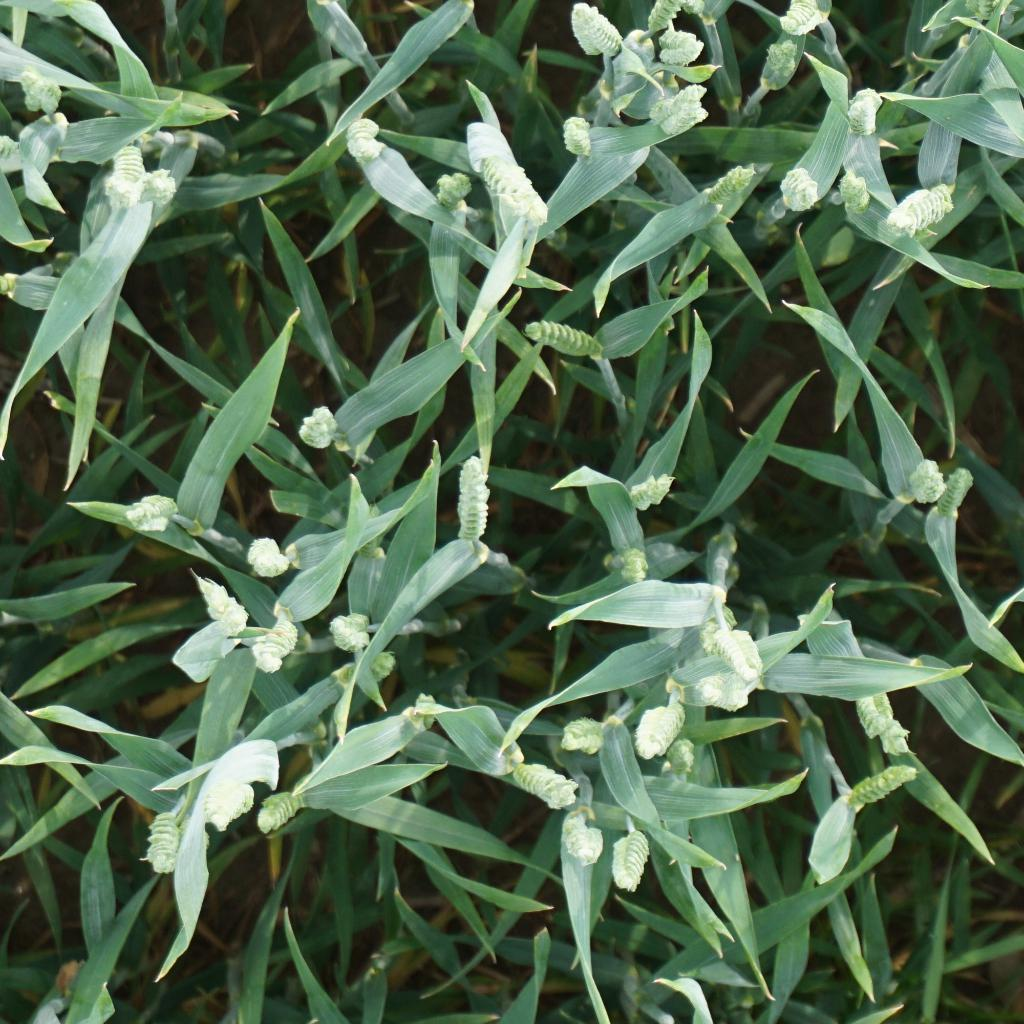0-0: (480, 147, 548, 224), (702, 605, 764, 682), (885, 179, 958, 237), (854, 685, 911, 759), (508, 756, 584, 809), (847, 759, 921, 811), (197, 766, 254, 833), (455, 452, 492, 547), (633, 696, 689, 758), (520, 320, 608, 358), (609, 825, 657, 893), (196, 571, 240, 644), (567, 1, 621, 58), (252, 608, 300, 672), (651, 81, 706, 135), (146, 804, 187, 875), (106, 143, 148, 212), (691, 672, 759, 712), (258, 785, 311, 834), (558, 811, 605, 866), (556, 712, 614, 756), (15, 65, 65, 115), (904, 453, 951, 505), (122, 493, 180, 534), (651, 27, 709, 67), (931, 466, 976, 516), (708, 160, 758, 203), (623, 469, 675, 510), (248, 531, 288, 584), (646, 0, 701, 38), (330, 608, 372, 657), (297, 404, 342, 449), (844, 89, 884, 139), (779, 167, 823, 211), (835, 166, 873, 214), (344, 116, 380, 165), (561, 116, 600, 161), (139, 167, 181, 207), (437, 163, 472, 209), (759, 39, 799, 79), (613, 543, 648, 584), (666, 732, 696, 776), (779, 0, 822, 29), (367, 647, 395, 680)
